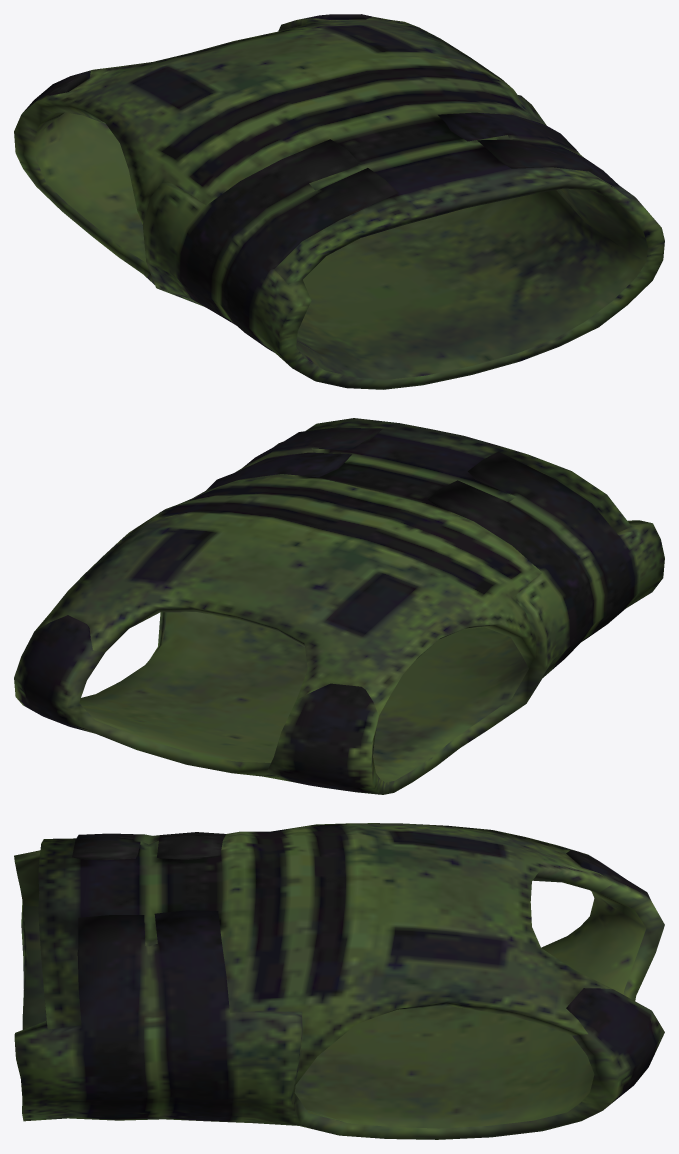
The model's file is Common_Props_Armor_Kevlar_Basic_LOD0.glb.
The picture shows the model from 3 angles, top to bottom: view 1: azimuth 30°, elevation 25°; view 2: azimuth 150°, elevation 25°; view 3: azimuth 270°, elevation 25°; orthographic projection. The views are drawn at different scales.
Parts seen in each view (by area): view 1: Hoodie; view 2: Hoodie; view 3: Hoodie.
Boxes of the visible parts, x1,y1,x2,y2 form: Hoodie: [14, 14, 664, 389]; Hoodie: [14, 418, 664, 794]; Hoodie: [14, 823, 664, 1139].
Size of the model in its own units: 0.3858 by 0.1687 by 0.5098.
1 material, 1 textured.
